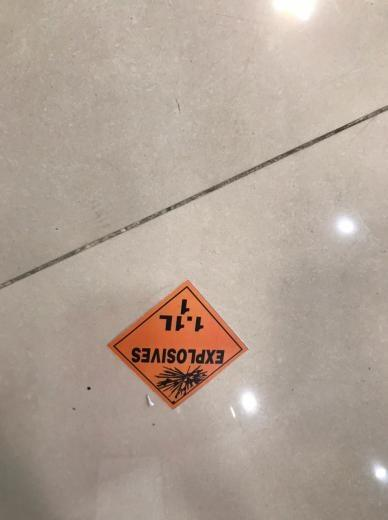explosive: (110, 277, 248, 417)
